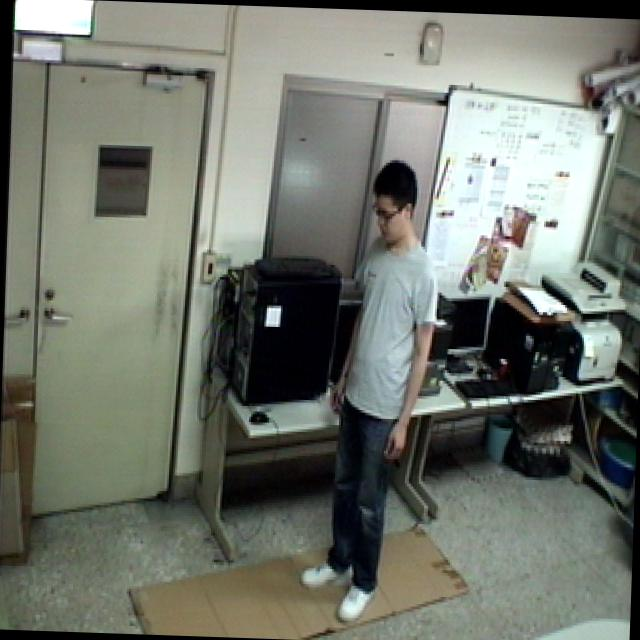stand: (293, 150, 446, 634)
